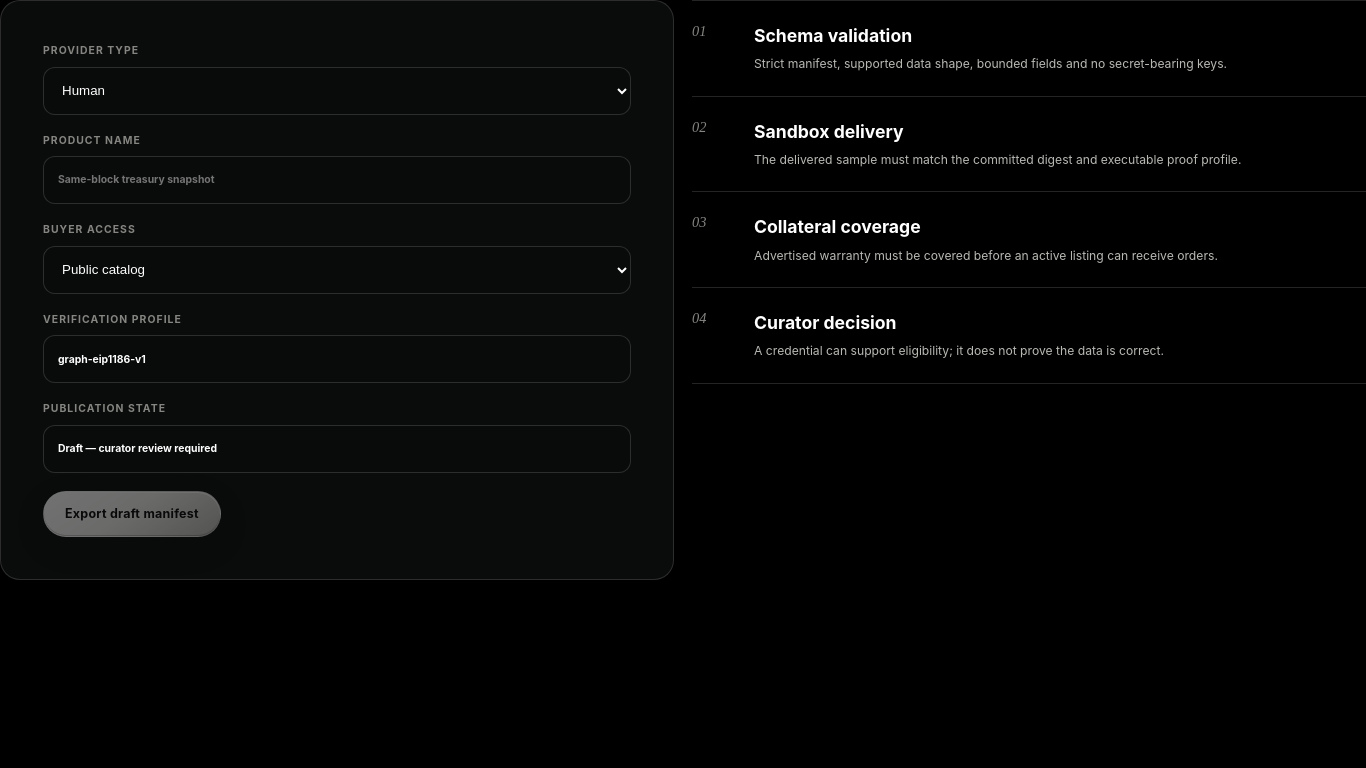
Test case: SellerStudio › explains publication gates and exports a draft without claiming publication
The width and height of the screenshot is (1366, 768).
Expected: the heading "Schema validation" is shown, 754,25 -> 912,46
Expected: the heading "Sandbox delivery" is shown, 754,121 -> 904,142
Select "Agent" in the dropdown labelled "Provider type" at (337, 91), box 43,67 -> 631,115
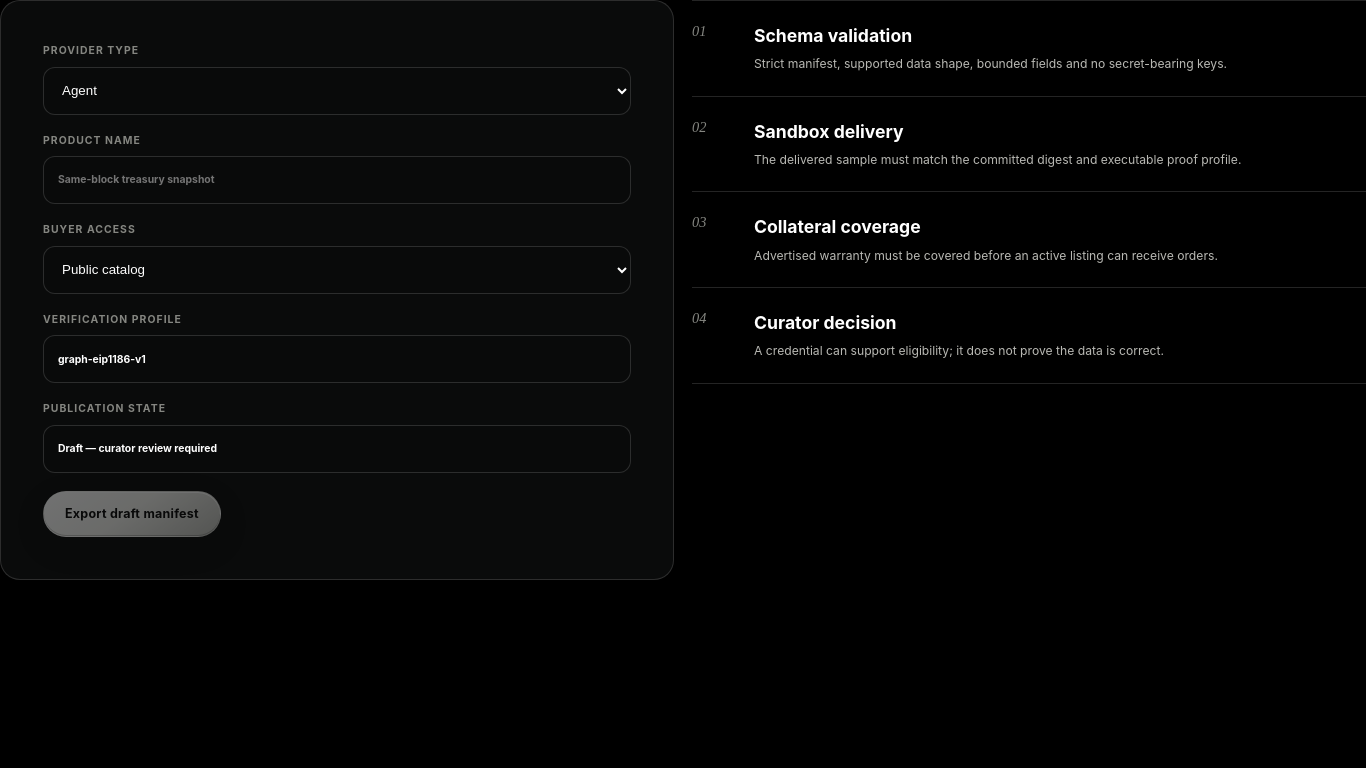
Select "Credential-gated private" in the dropdown labelled "Buyer access" at (337, 270), box 43,246 -> 631,294
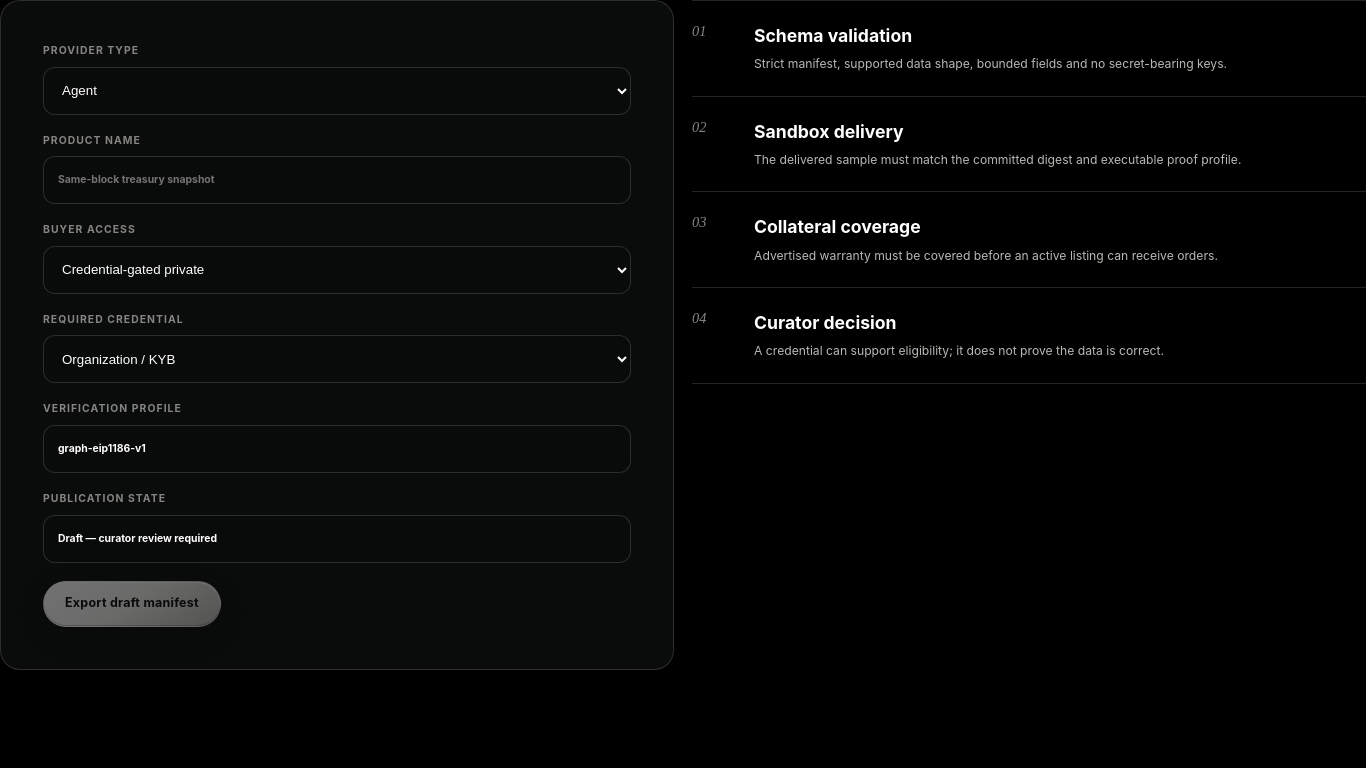
Result: the dropdown labelled "Required credential" is shown at 43,335 -> 631,383
Type "Treasury Snapshot" into the field labelled "Product name" at (337, 180), box 43,156 -> 631,204
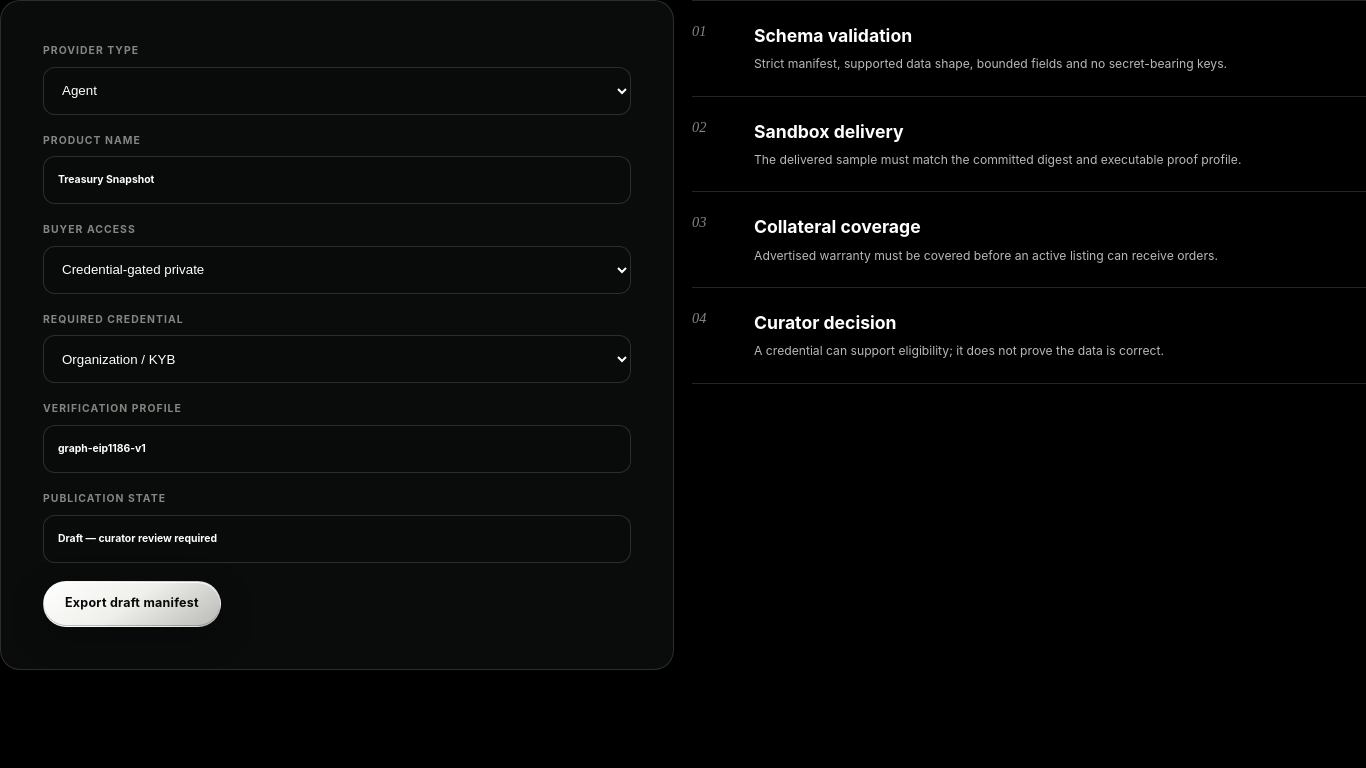
Click the button "Export draft manifest" at (132, 604), box 43,581 -> 221,627
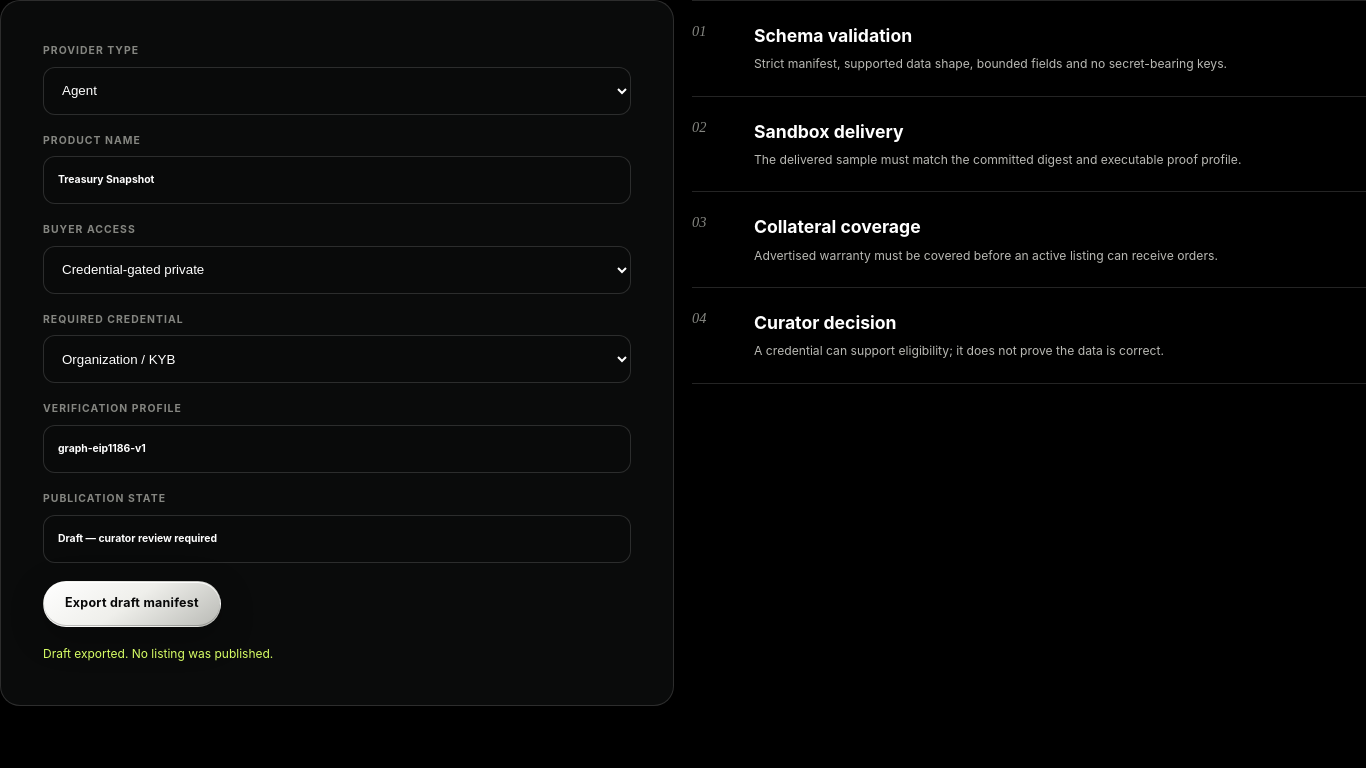
Result: the text "Draft exported. No listing was published." is shown at 43,646 -> 273,661
